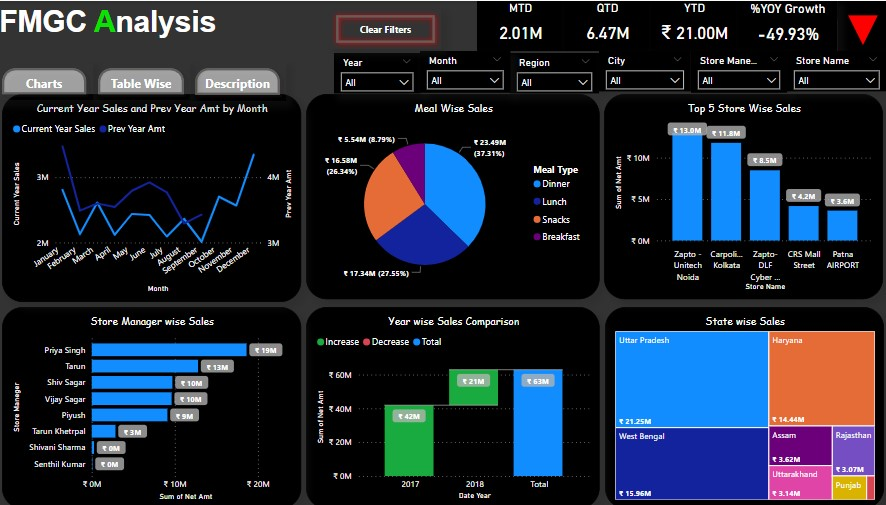

The dashboard page shown, as its layout file describes it:
{"tool":"tableau","page":{"name":"Dashboard 2","canvas":[1000,1000],"units":"permille","ordinal":0},"visuals":[{"type":"text","box":[0,0,1000,1000]},{"type":"text","box":[278.3,3.7,486.6,87.9]},{"type":"worksheet","title":"Region Filter","mark":"Automatic","rows":["Region"],"cols":["Calculation_956663120196493321"],"box":[3.2,9.9,279.9,248.8]},{"type":"worksheet","title":"Total Sales","mark":"Automatic","box":[150.5,69.3,240,116.3]},{"type":"worksheet","title":"Manager wise Sales","mark":"Automatic","rows":["Store Maneger"],"cols":["Net Amt"],"box":[484.9,71.8,503.7,268.6]},{"type":"image","param":"Image/money.png","box":[294.6,75.5,83.8,65.6]},{"type":"worksheet","title":"Store wise Sales","mark":"Bar","rows":["Net Amt"],"cols":["Store Name"],"box":[148.1,199.3,332.8,394.8]},{"type":"worksheet","title":"Month Filter","mark":"Automatic","rows":["Month"],"cols":["Calculation_956663120198422539"],"box":[2.4,258.7,280.7,580.5]},{"type":"worksheet","title":"Sales TYpe","mark":"Line","rows":["Sales Type"],"cols":["Net Amt"],"box":[487.4,350.2,507.7,299.5]},{"type":"worksheet","title":"Meal wise Sales","mark":"Pie","box":[146.5,610.1,332.8,382.4]},{"type":"worksheet","title":"State wise","mark":"Automatic","box":[487.4,652.2,506.9,346.5]},{"type":"legend","title":"State wise","param":"[federated.0wrd7ro08w9w9411kd3cq0ofwfcc].[sum:Net Amt:qk]","box":[880.4,693.1,113.9,94.1]},{"type":"worksheet","title":"Year filter","mark":"Automatic","rows":["Date"],"box":[2.4,840.4,141.6,153.5]}]}

Visuals, with their boxes on the dashboard's canvas, which has no fixed pixel size, in thousandths of its width and height (x1, y1, x2, y2). These are canvas units, not pixel positions in the 886x505 screenshot, which may show the page scaled, cropped or inside an application window:
text: 0 0 1000 1000
text: 278 4 765 92
"Region Filter" worksheet: 3 10 283 259
"Total Sales" worksheet: 150 69 390 186
"Manager wise Sales" worksheet: 485 72 989 340
image: 295 76 378 141
"Store wise Sales" worksheet (Bar marks): 148 199 481 594
"Month Filter" worksheet: 2 259 283 839
"Sales TYpe" worksheet (Line marks): 487 350 995 650
"Meal wise Sales" worksheet (Pie marks): 146 610 479 992
"State wise" worksheet: 487 652 994 999
"State wise" legend: 880 693 994 787
"Year filter" worksheet: 2 840 144 994
